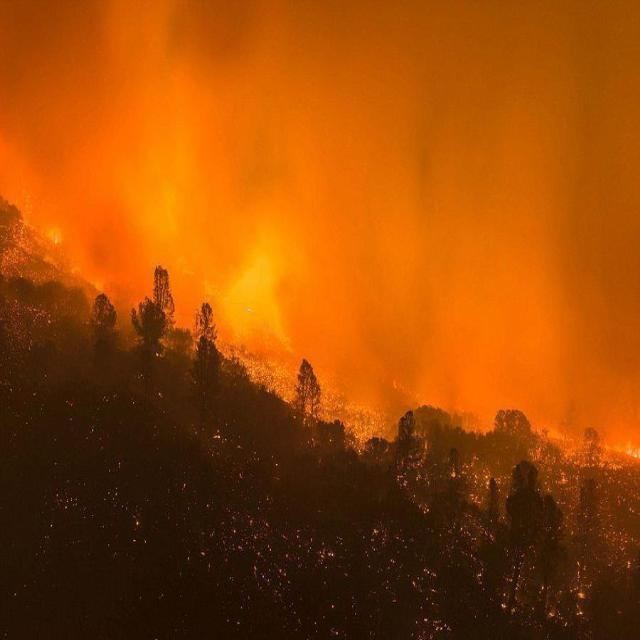fire: (8, 164, 306, 362), (319, 358, 634, 484)
